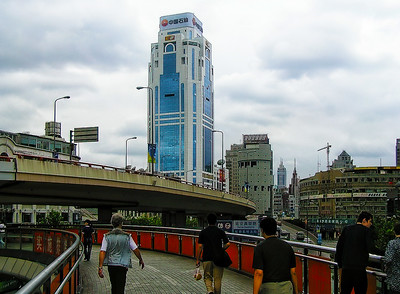low: (143, 8, 224, 189)
